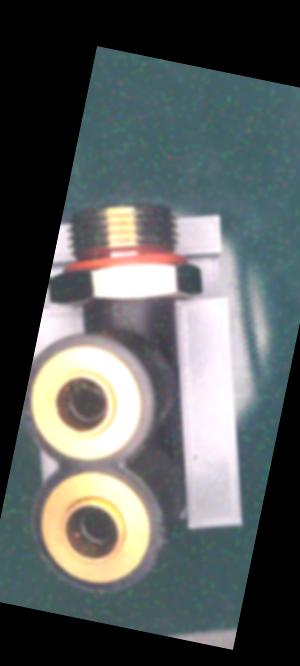off-centered: (54, 374, 117, 435)
white mark: (108, 300, 127, 328)
